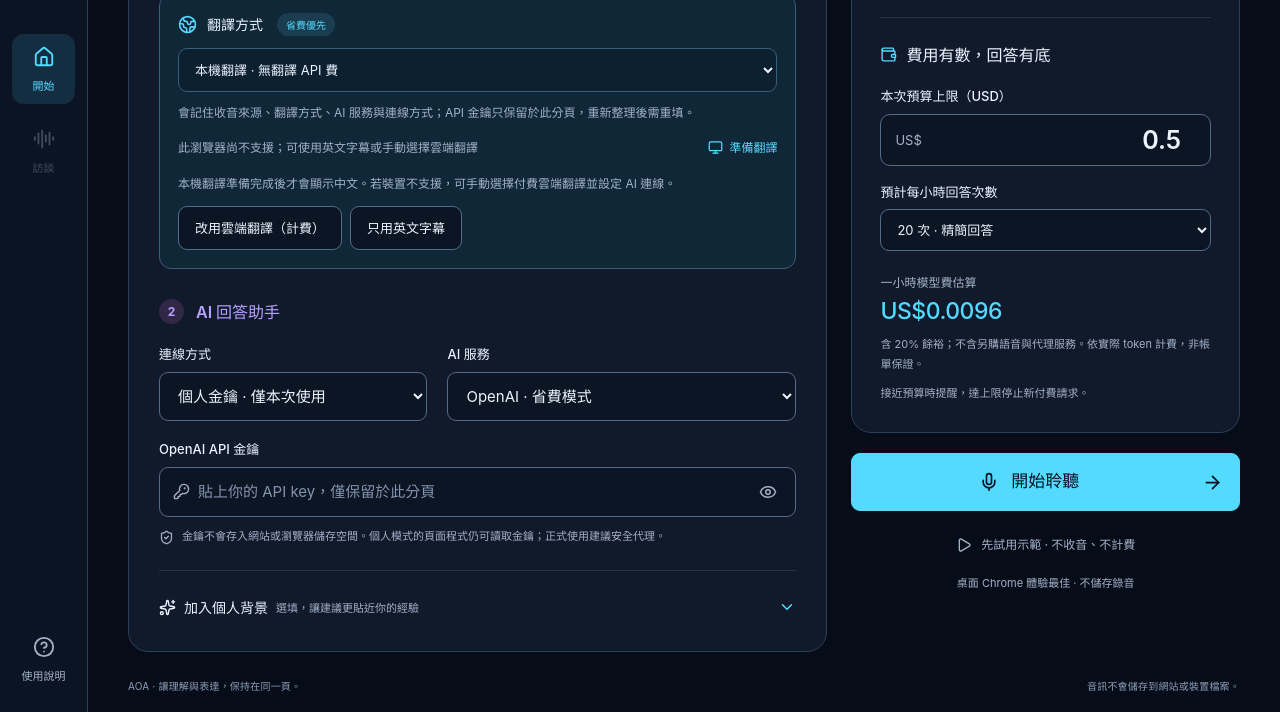
Scenario: translation readiness before starting › requires a connected gateway token rather than accepting a personal key in gateway mode
(page scrolled)
In the password field labelled "OpenAI API 金鑰": (470, 492) [198,468,741,516], type "test-only-key"
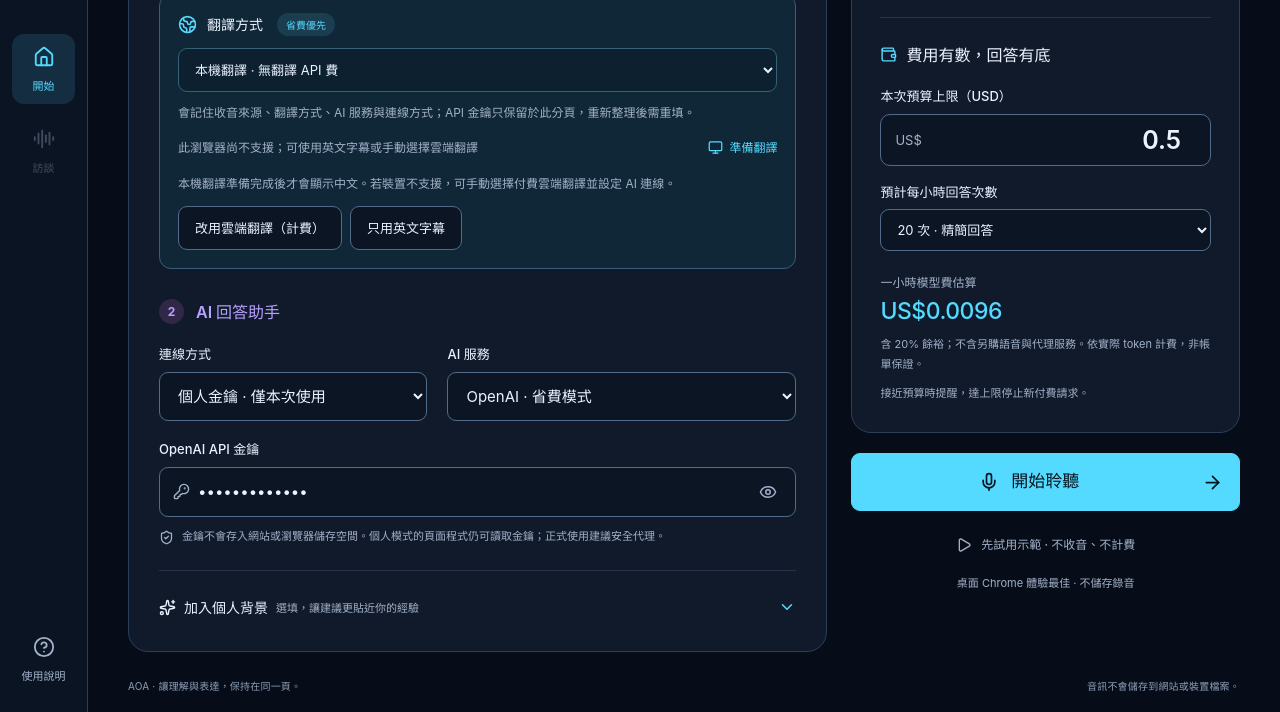
Select "雲端翻譯 · 會使用付費 API" in the dropdown labelled "翻譯方式": (478, 70) [178,48,777,92]
(page scrolled)
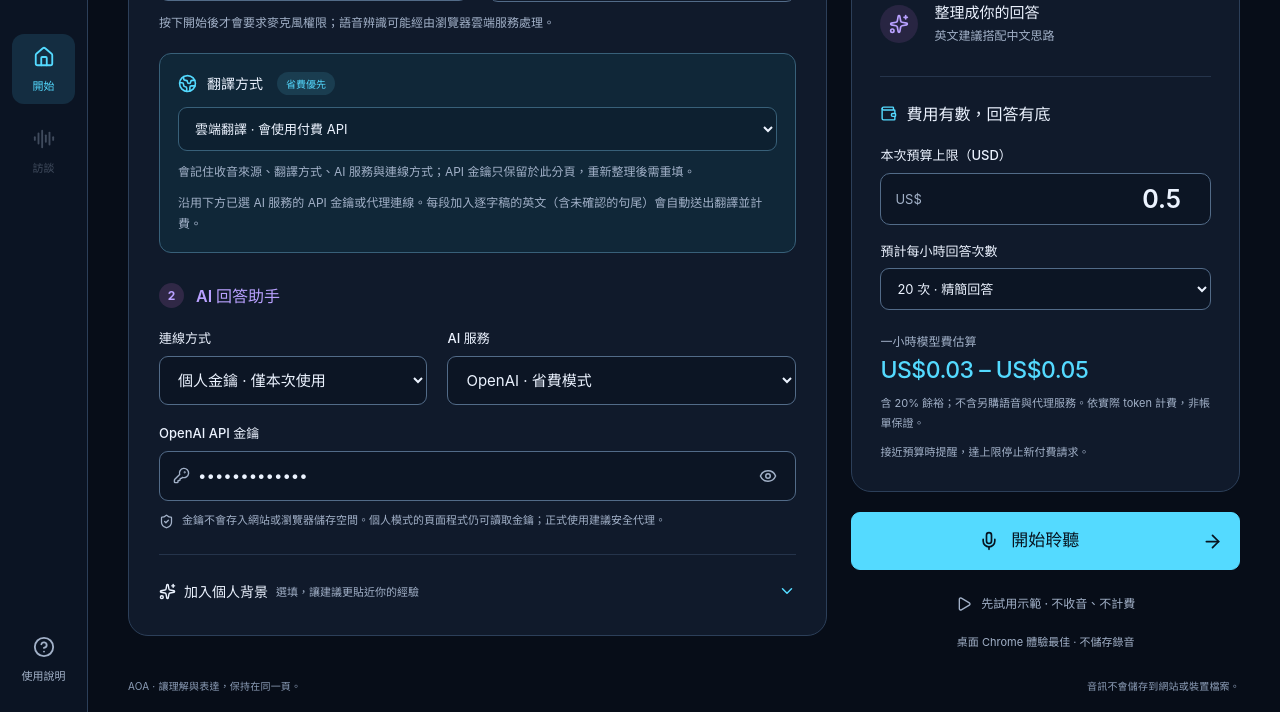
Select "安全代理 · 建議正式使用" in the dropdown labelled "連線方式": (293, 380) [159,356,427,405]
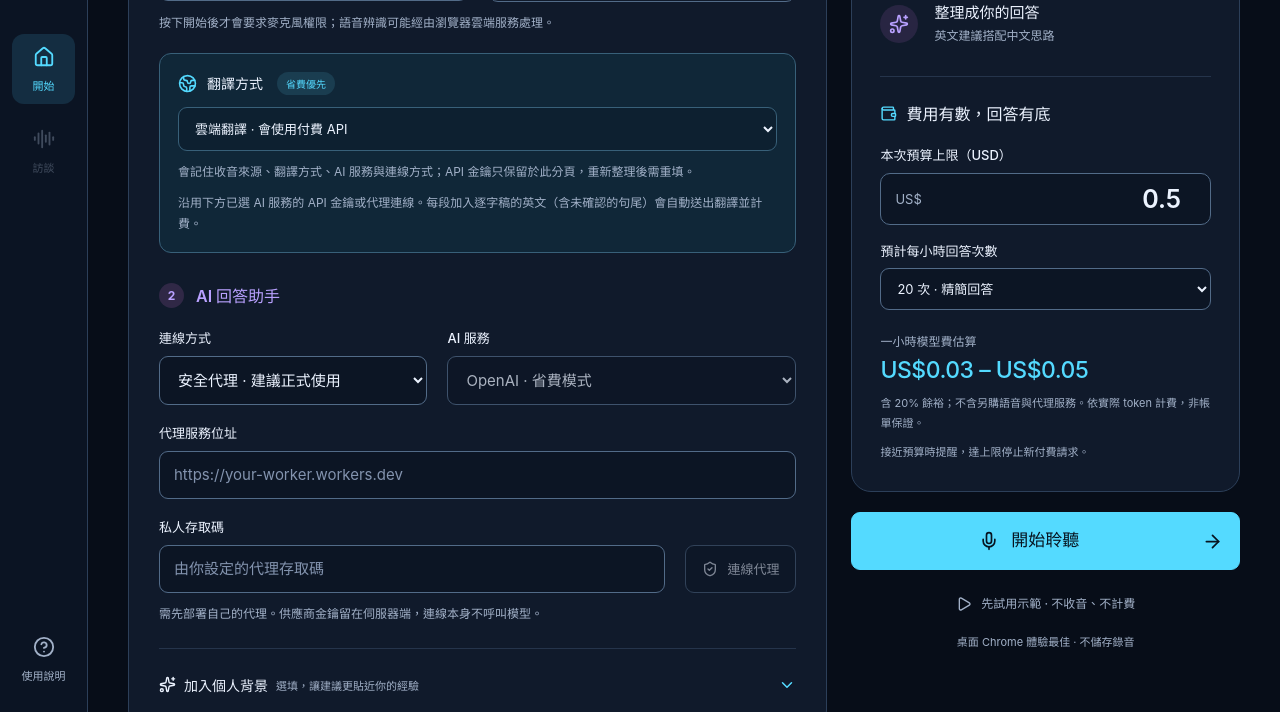
In the field labelled "代理服務位址": (478, 475) [159,451,796,499], type "https://api.example.com"
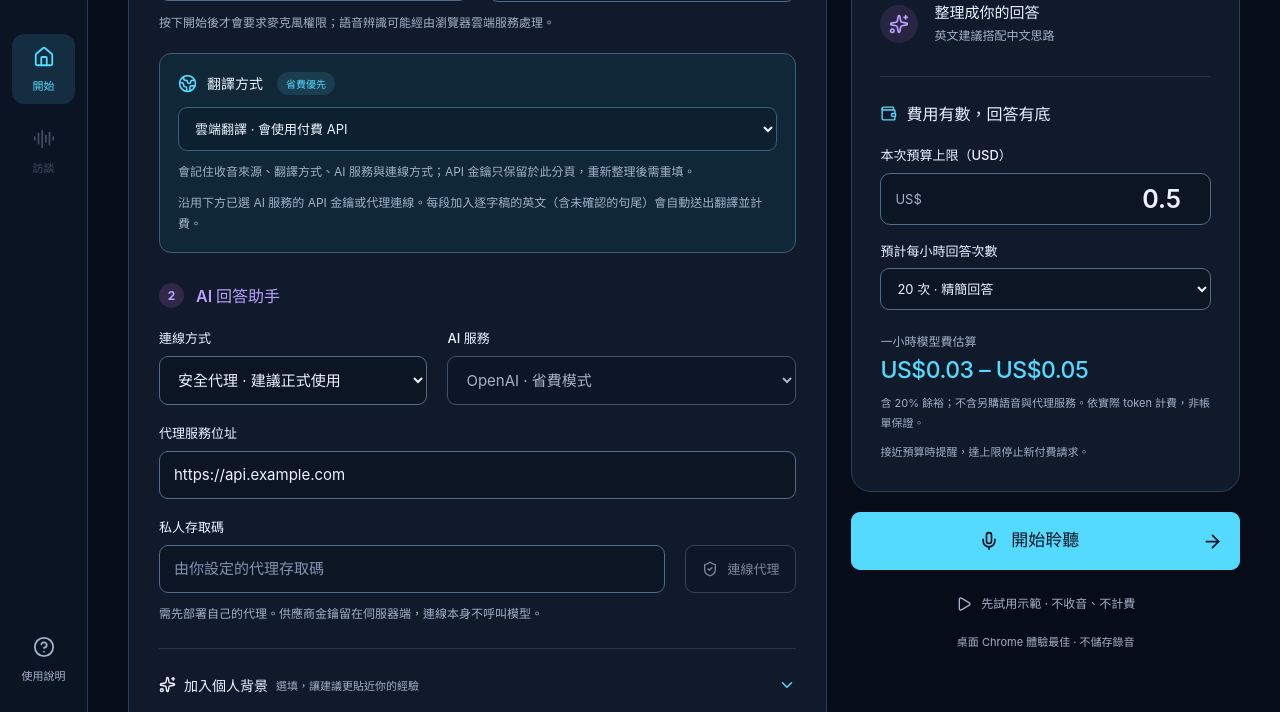
Click the button "開始聆聽": (1046, 541) [851,512,1240,570]
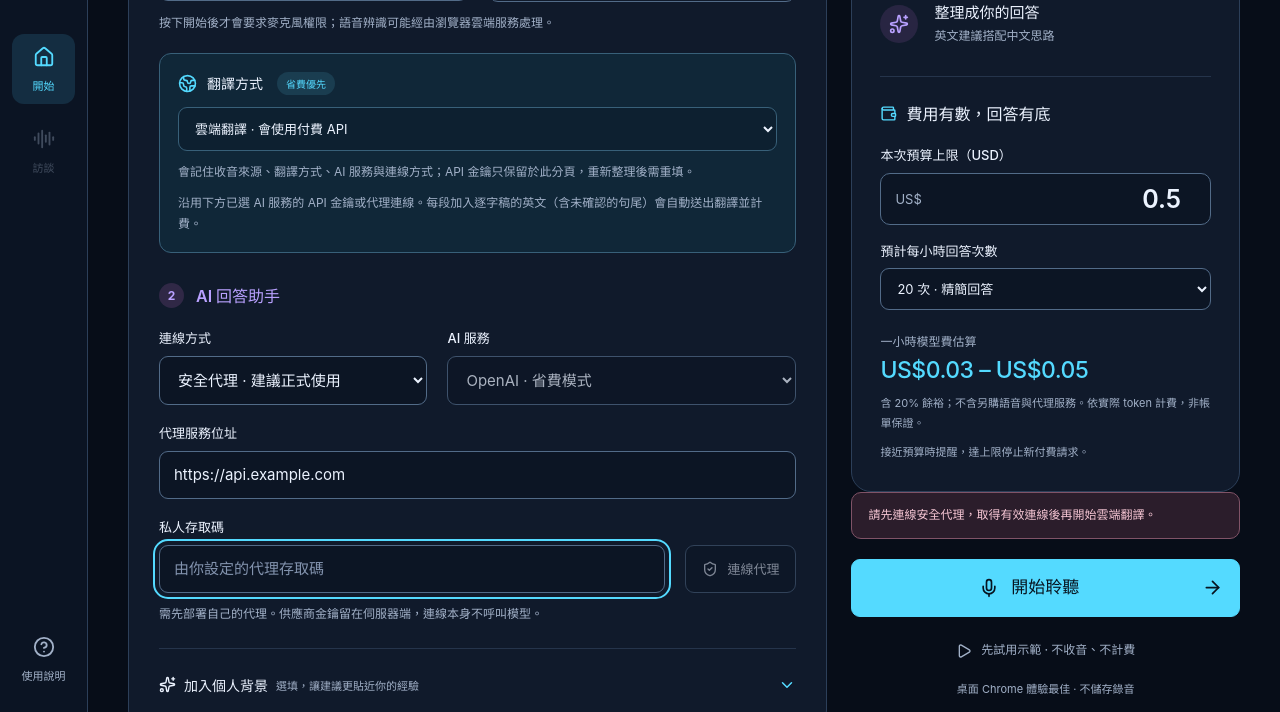
Result: the message shows "代理" at [851,492,1240,539]
